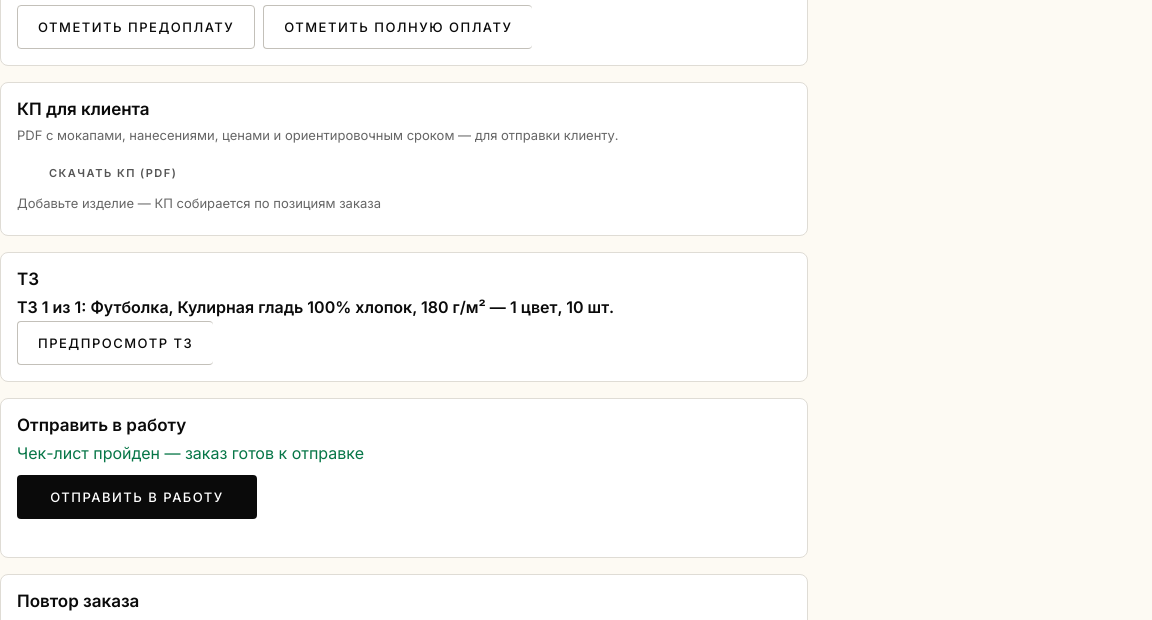
Test: «Отправить в работу» на «ТЗ и цена» › отказ: текст шага в role=alert, фокус на нём
(page scrolled)
Click the button "Отправить в работу": (137, 497) [17,475,257,519]
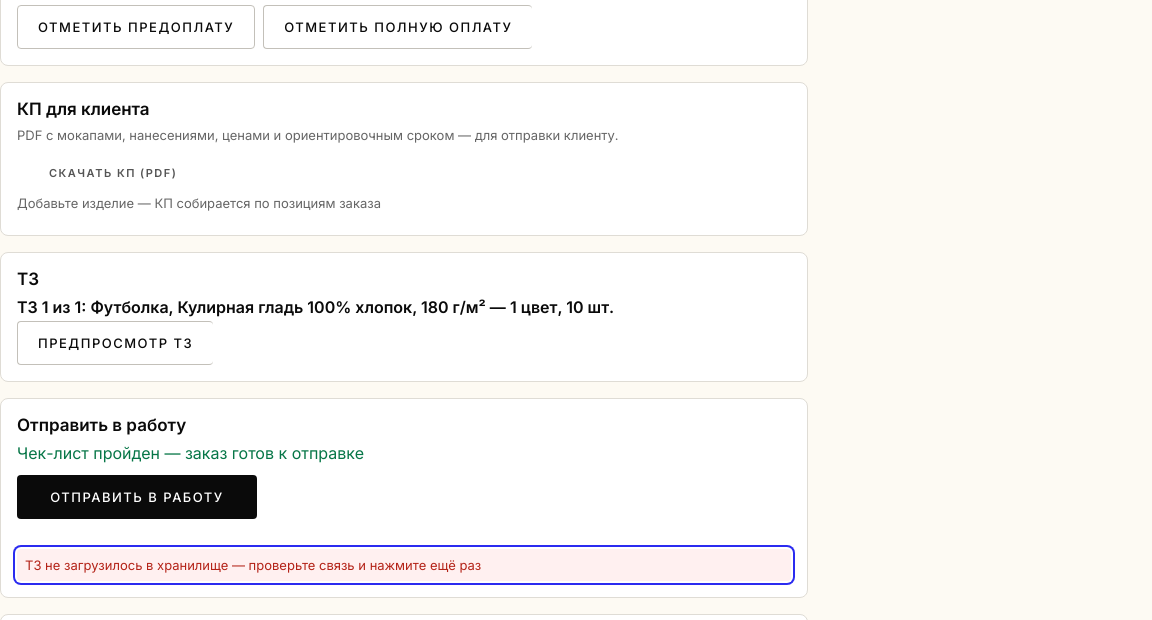
Check: the message shows "ТЗ не загрузилось в хранилище", box [25,557,481,573]
